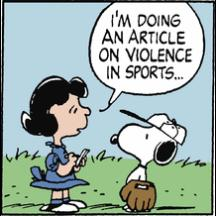snoopy: (110, 113, 186, 213)
